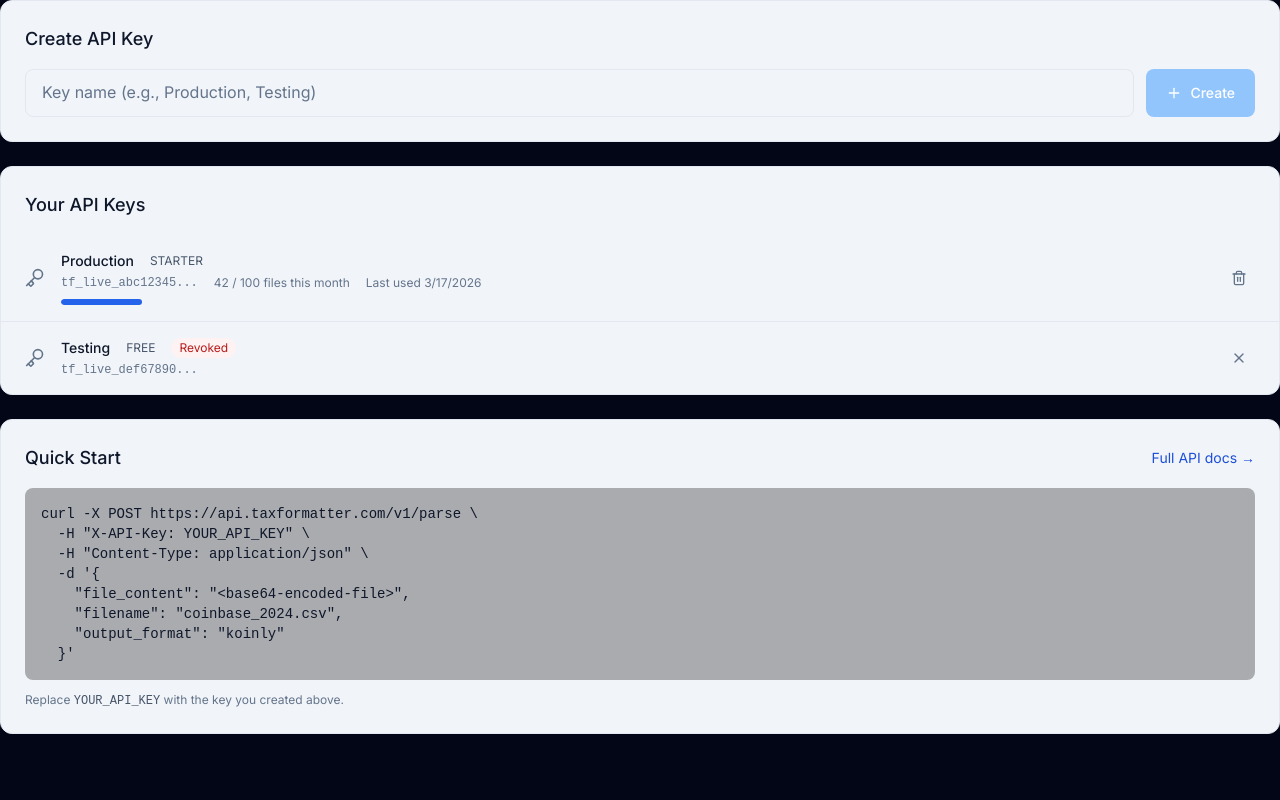
Test: ApiKeyManager › Create Flow › shows error on create failure
expect the heading "Create API Key" is shown: met, box [25,28,153,49]
Step 1. Type "Fail Key" into the field with placeholder "Key name (e.g., Production, Testing)" → (580, 93), box [25,69,1134,117]
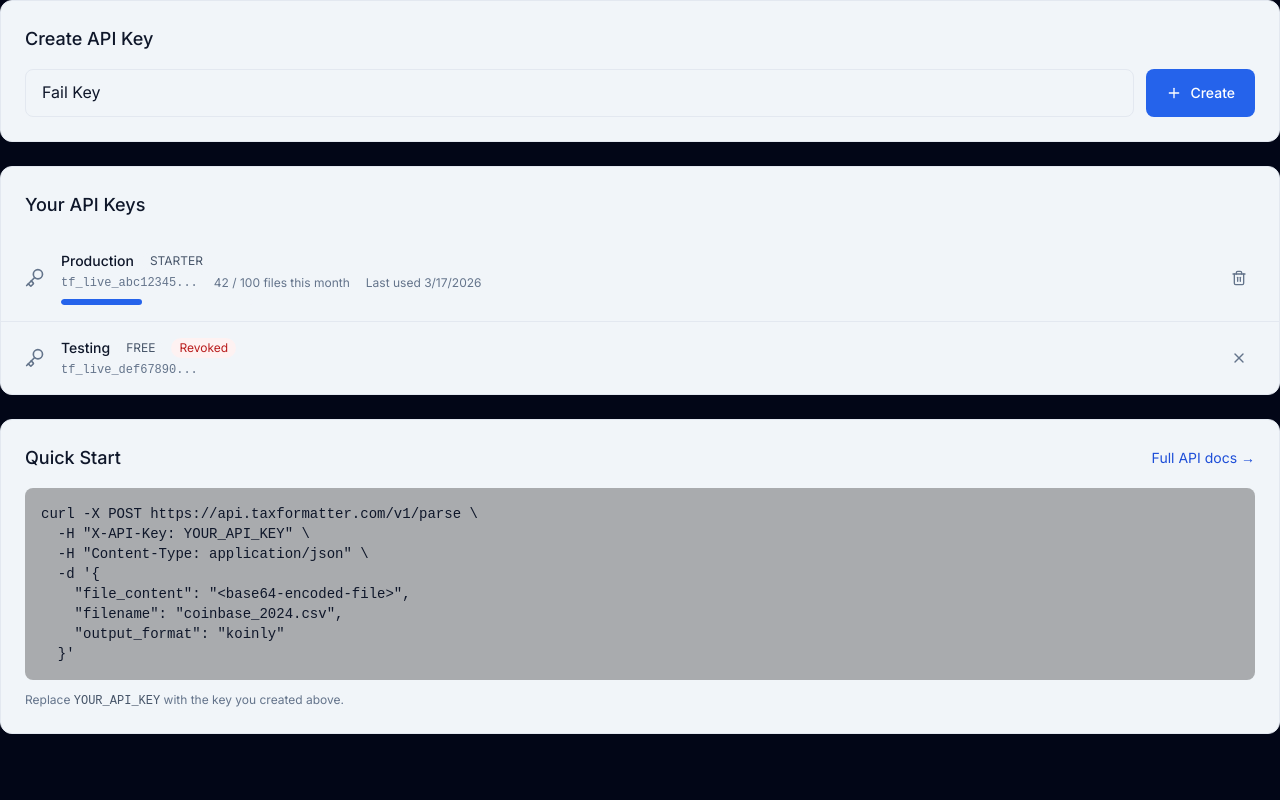
Step 2. Click the button "Create" → (1201, 93), box [1146,69,1255,117]
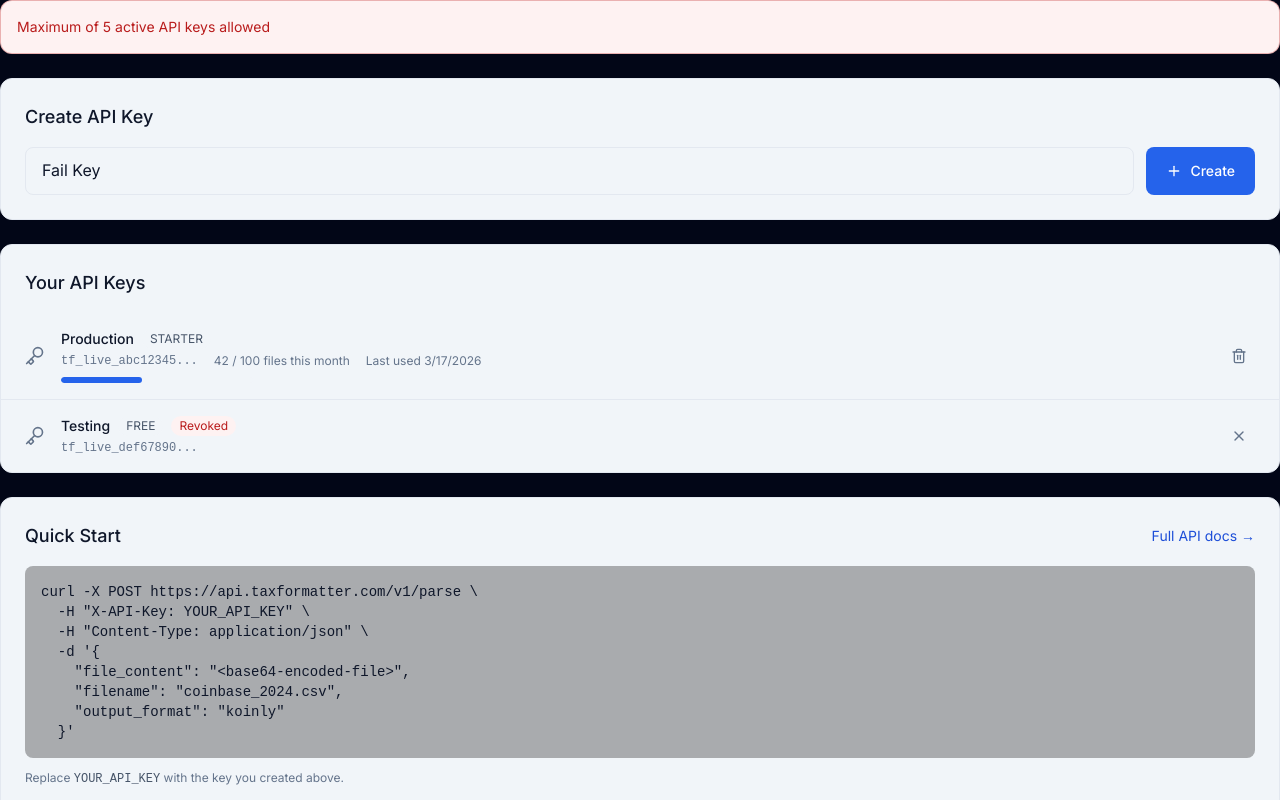
expect the text "Maximum of 5 active API keys allowed" is shown: met, box [0,0,1279,54]
